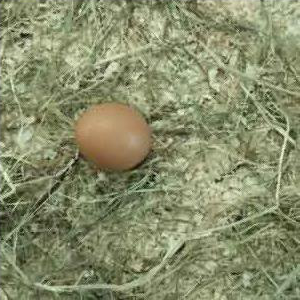egg: (75, 104, 149, 170)
